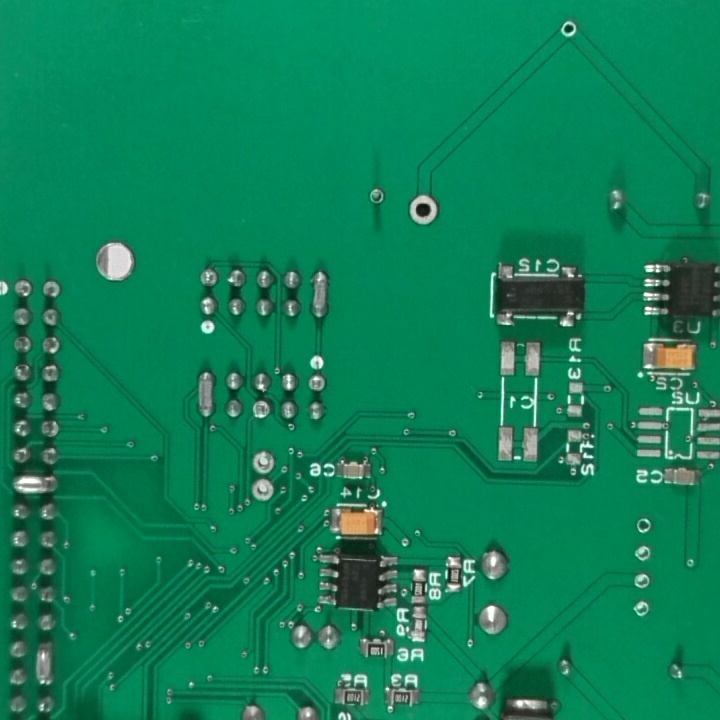F: (406, 193, 441, 226), (250, 448, 279, 475), (250, 478, 276, 505), (364, 184, 393, 207), (630, 595, 653, 623), (198, 265, 223, 290), (38, 414, 61, 441), (559, 15, 579, 45), (12, 275, 35, 300), (630, 569, 653, 592), (632, 516, 654, 540), (250, 398, 272, 422), (633, 540, 654, 565), (12, 332, 34, 355), (305, 374, 329, 394)
P: (8, 470, 61, 499), (194, 366, 218, 423), (33, 638, 56, 690), (310, 266, 330, 323)
